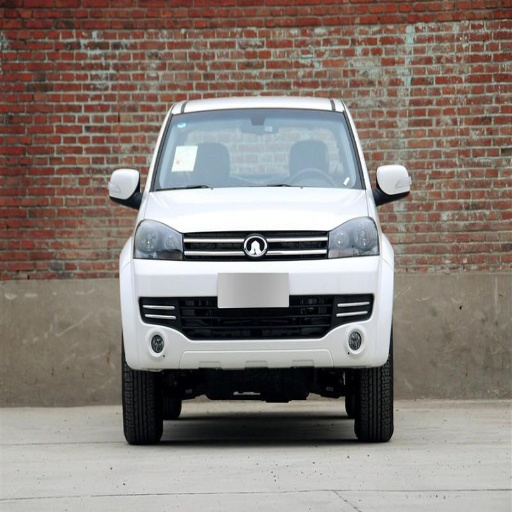front_bumper: (129, 229, 392, 365)
front_right_light: (137, 227, 179, 258)
hood: (143, 188, 366, 233)
left_mirror: (375, 165, 411, 204)
